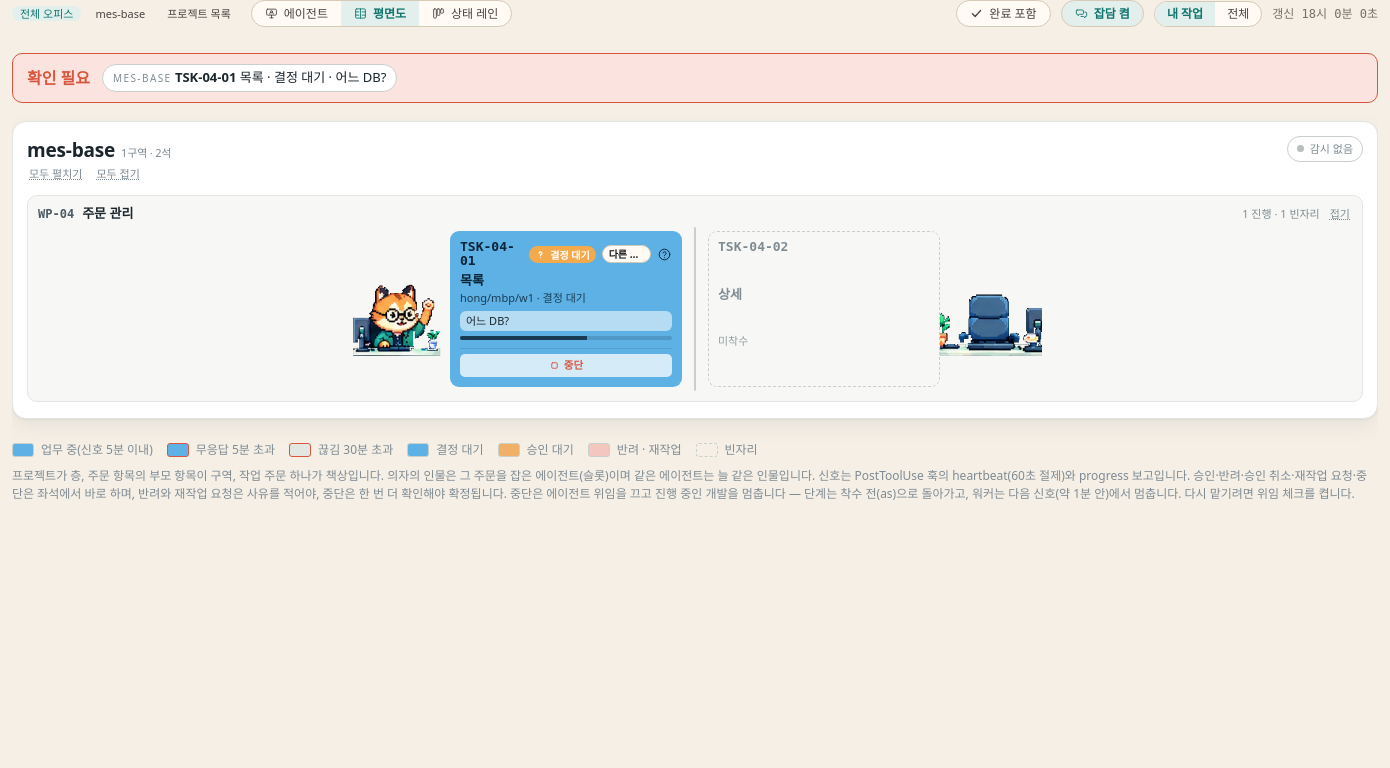
SeatmapView › 보기는 에이전트·평면도·상태 레인 셋이고, 에이전트는 작업 PC 로 묶은 자리와 프로필을 그린다(2026-09-18)
Click the button "에이전트" at (296, 14), box [252,1,341,26]
(page scrolled)
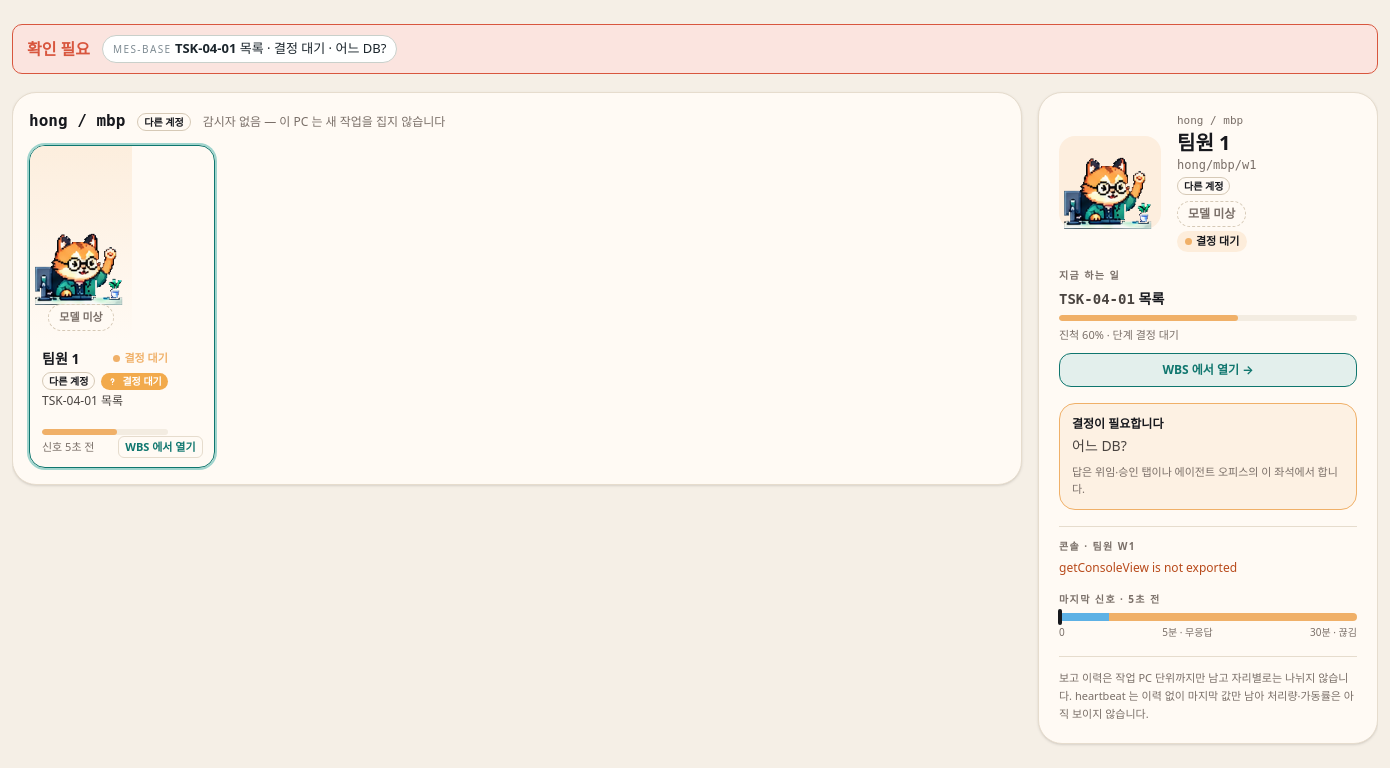
Check: the element that starts with "hong / mbp" is shown
Check: the element that starts with "hong / mbp" shows "팀원 1", box [29,144,215,468]
Check: the element that starts with "hong / mbp" shows "어느 DB?", box [1072,436,1127,455]
